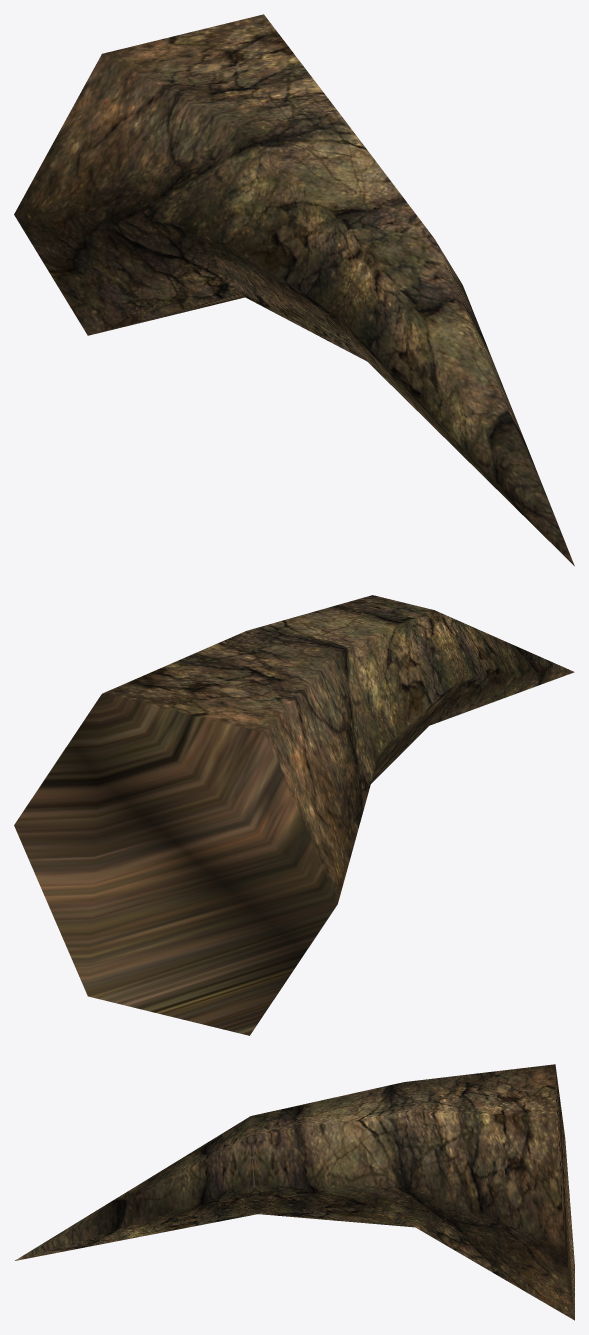
Rendered from stalagmite_08.obj.
3 views of the same model, one above another, from view 1: azimuth 30°, elevation 25°; view 2: azimuth 150°, elevation 25°; view 3: azimuth 270°, elevation 25° (orthographic). The views are drawn at different scales.
Parts seen in each view (by area): view 1: (null); view 2: (null); view 3: (null).
Boxes of the visible parts, left/top/right/bottom form: (null): left=14, top=14, right=574, bottom=566; (null): left=14, top=595, right=574, bottom=1035; (null): left=15, top=1064, right=574, bottom=1320.
Bounding box in the file's own units: 3.38 × 2.92 × 7.35.
